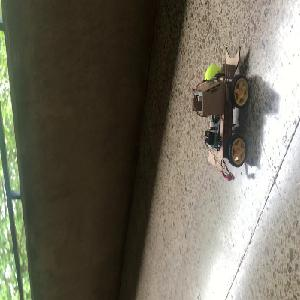Ball: (203, 64, 219, 79)
Robot: (191, 46, 248, 174)
